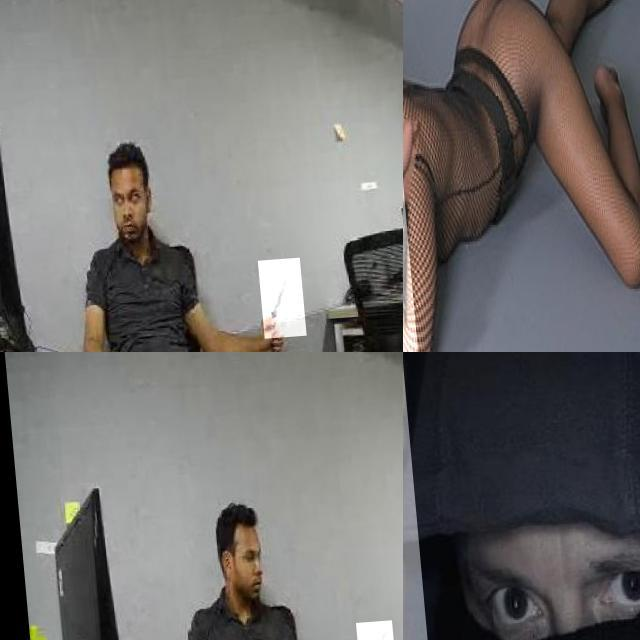-: (403, 352, 503, 640), (250, 264, 297, 344), (348, 625, 388, 640)
gun-knife-thesis - v11 Yolov5 augmented: (403, 74, 585, 352)
